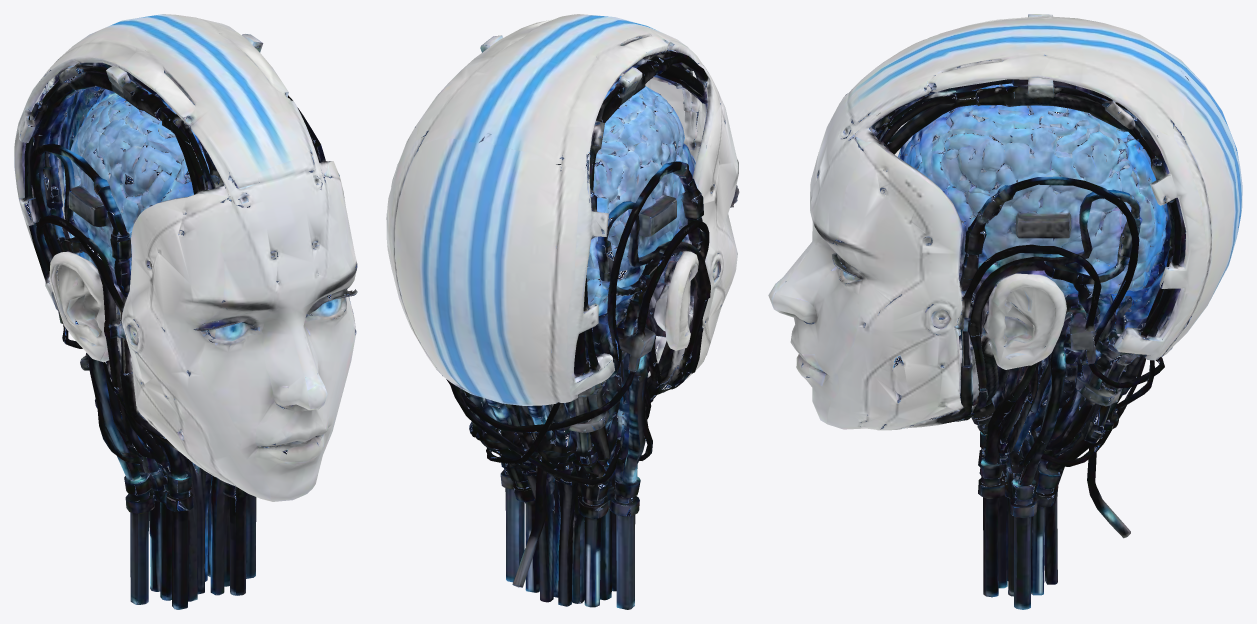
Rendered from mwft-hero-optimized.glb.
3 renders of one model, left to right at view 1: azimuth 30°, elevation 25°; view 2: azimuth 150°, elevation 25°; view 3: azimuth 270°, elevation 25°, orthographic. The views are drawn at different scales.
Size of the model in its own units: 0.9278 by 1.9 by 1.49.
1 material, 1 textured.
